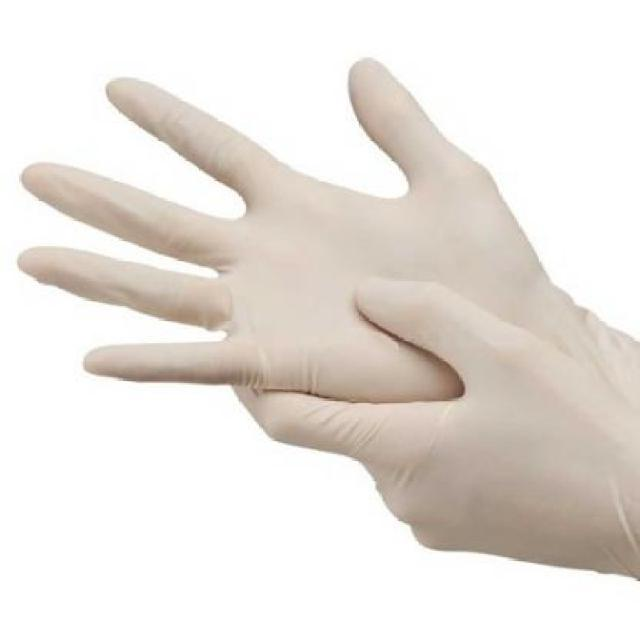gloved_hand: (22, 58, 638, 548)
